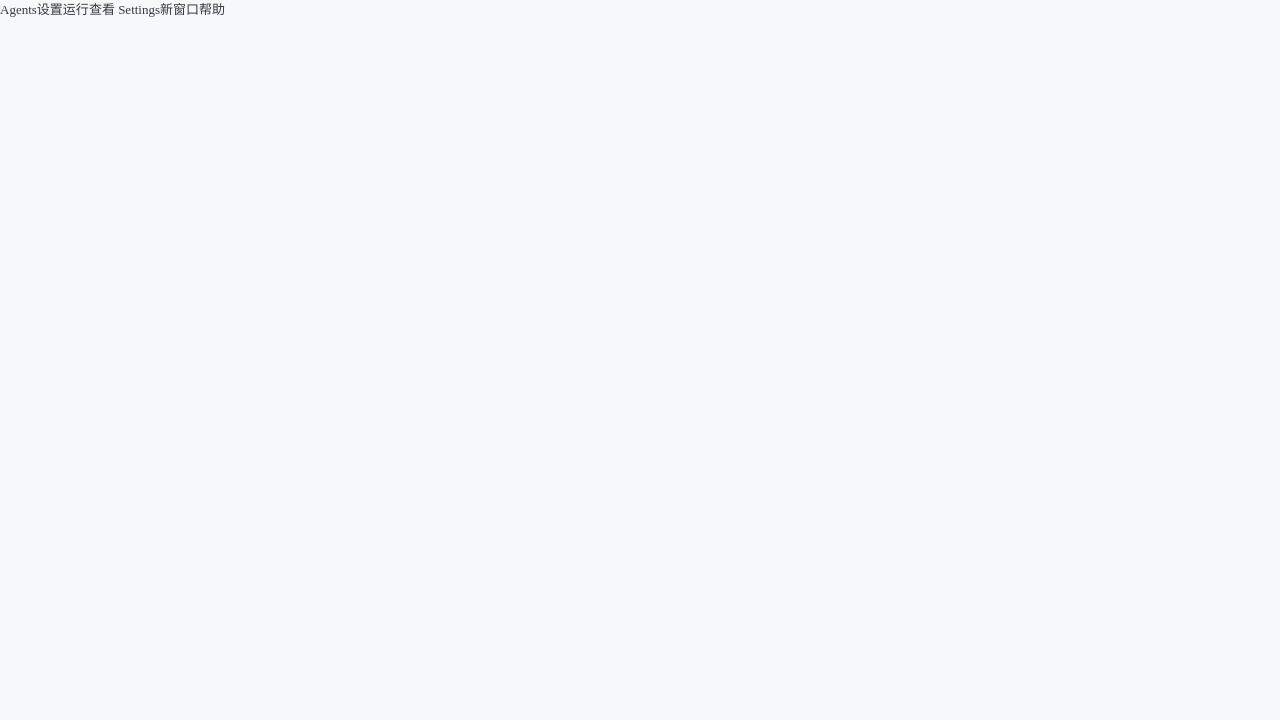
it: Builder routed departure › keeps failed saves in the original editing session
Click the link "设置": click(50, 10) [37,2,63,17]
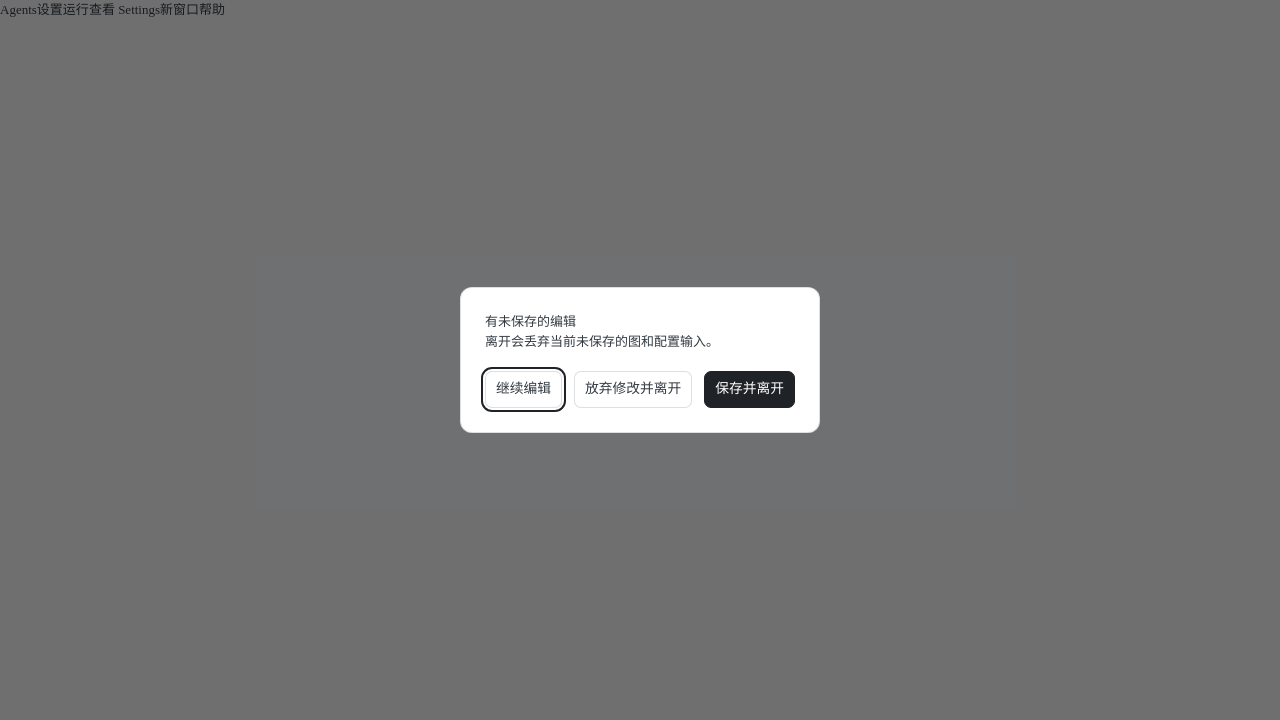
Click the button "保存并离开": click(750, 390) [704,371,795,408]
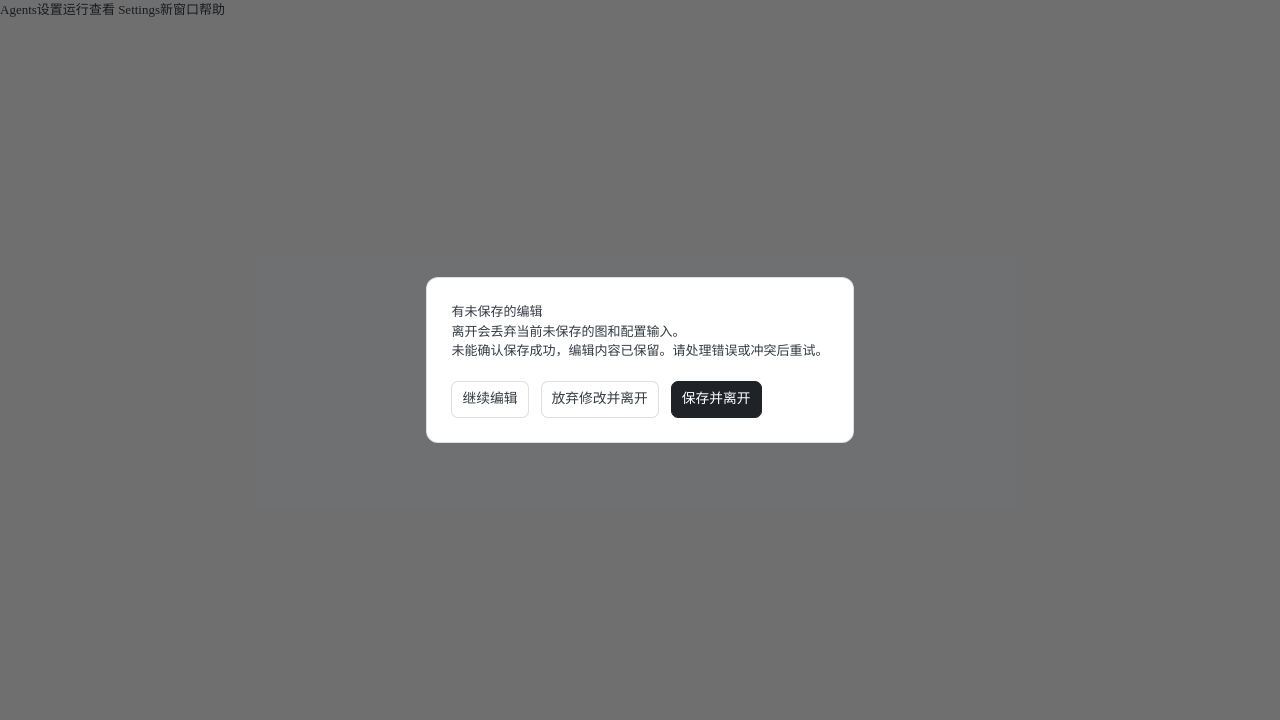
Expected: the text "未能确认保存成功，编辑内容已保留。请处理错误或冲突后重试。" is shown, [452,341,828,361]
